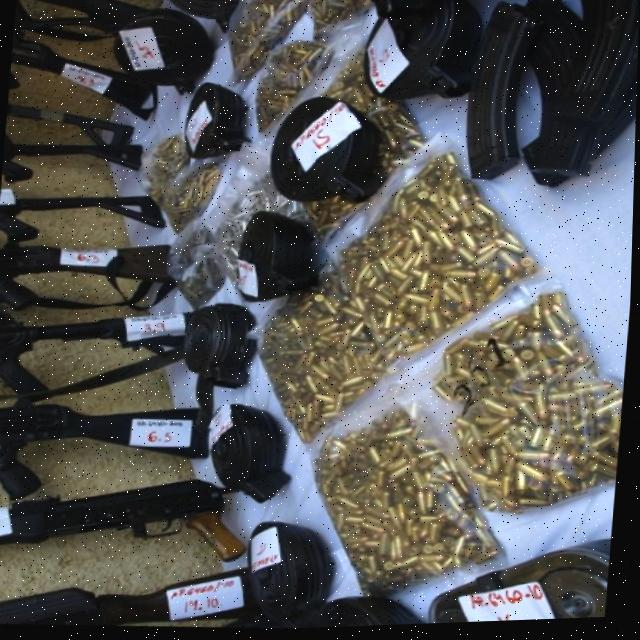firearm: (0, 466, 249, 566), (0, 395, 210, 511), (0, 555, 266, 638), (0, 299, 195, 406), (0, 234, 177, 318), (8, 27, 159, 120), (0, 184, 170, 252), (5, 88, 138, 150), (2, 135, 144, 192)
